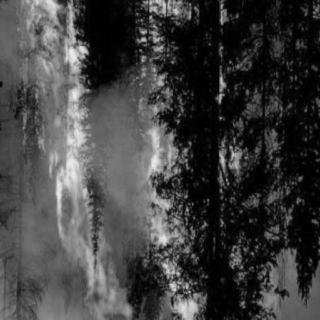Fire: (13, 2, 134, 318), (143, 110, 211, 318), (136, 4, 188, 104), (245, 245, 307, 318), (216, 132, 252, 190)
